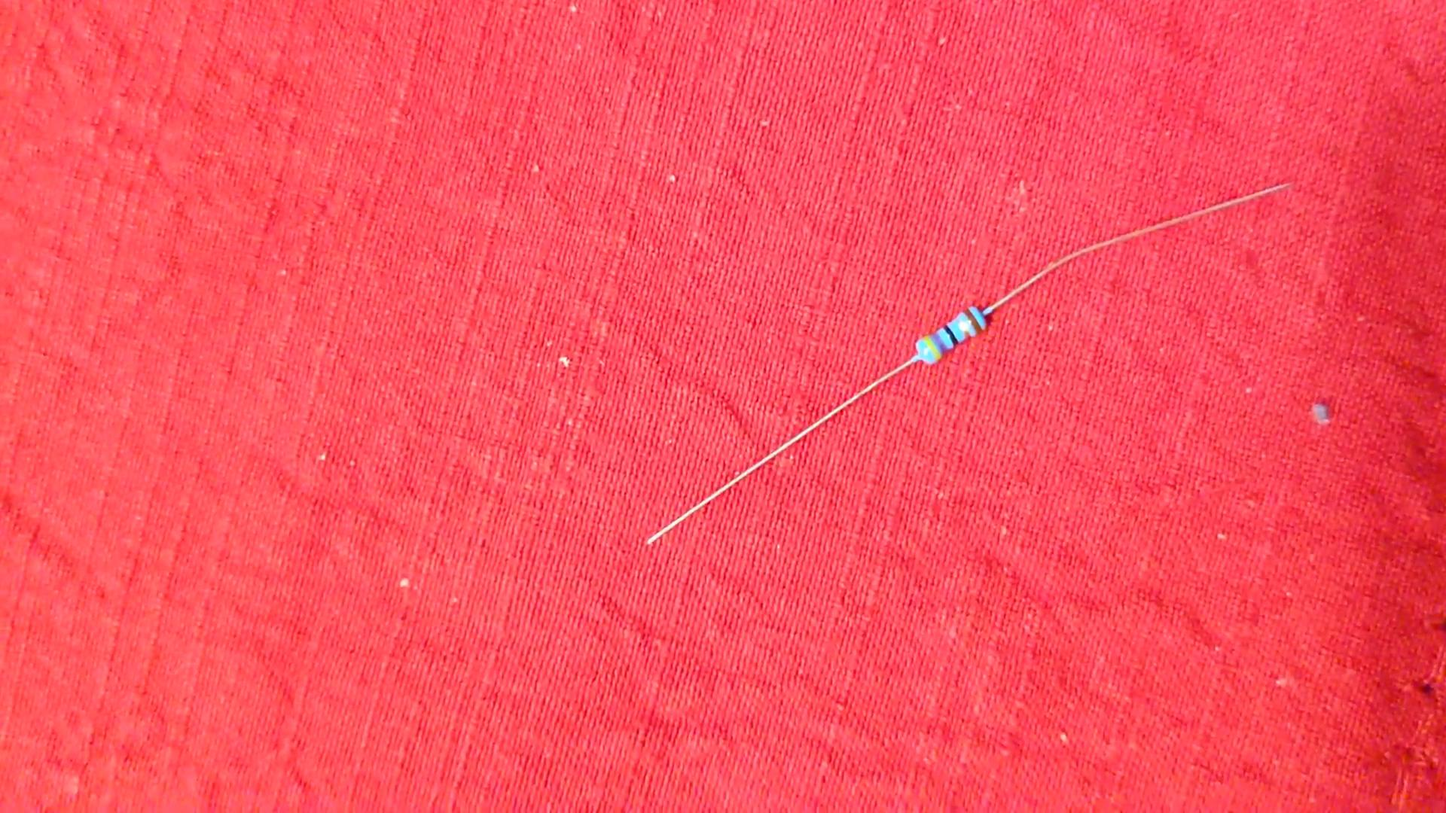resistor: (904, 304, 994, 367)
